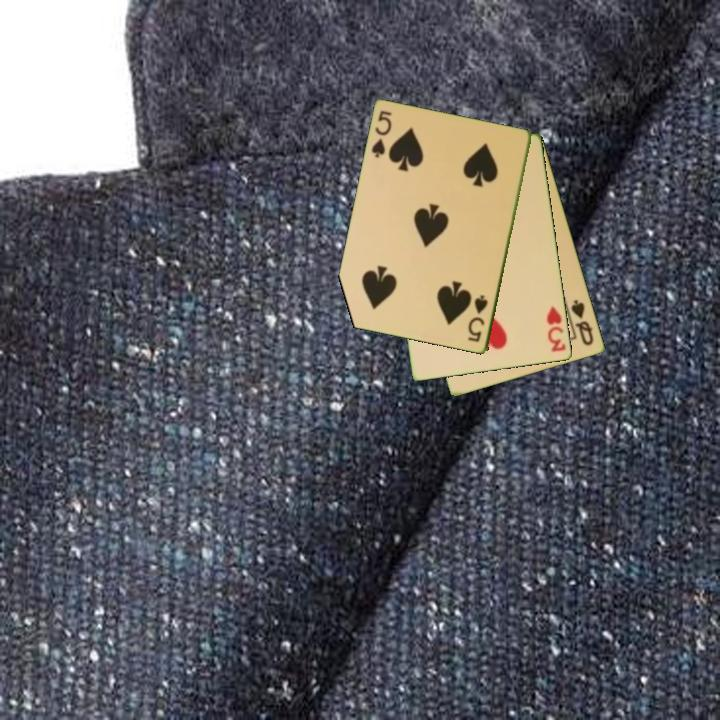3h: (543, 302, 569, 355)
5s: (368, 107, 395, 161), (465, 292, 491, 345)
Qs: (568, 296, 597, 349)
